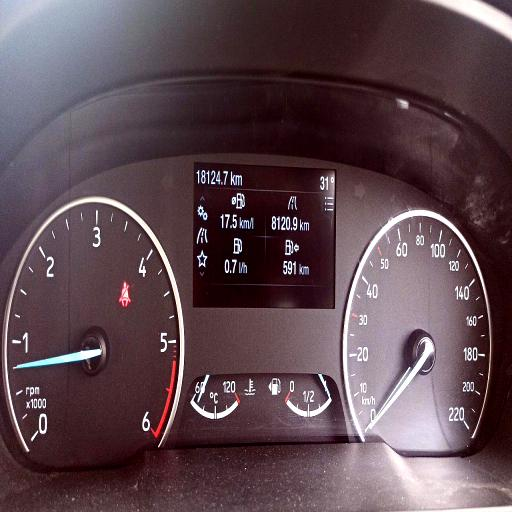belt: (120, 280, 131, 308)
tachometer: (5, 191, 185, 460)
